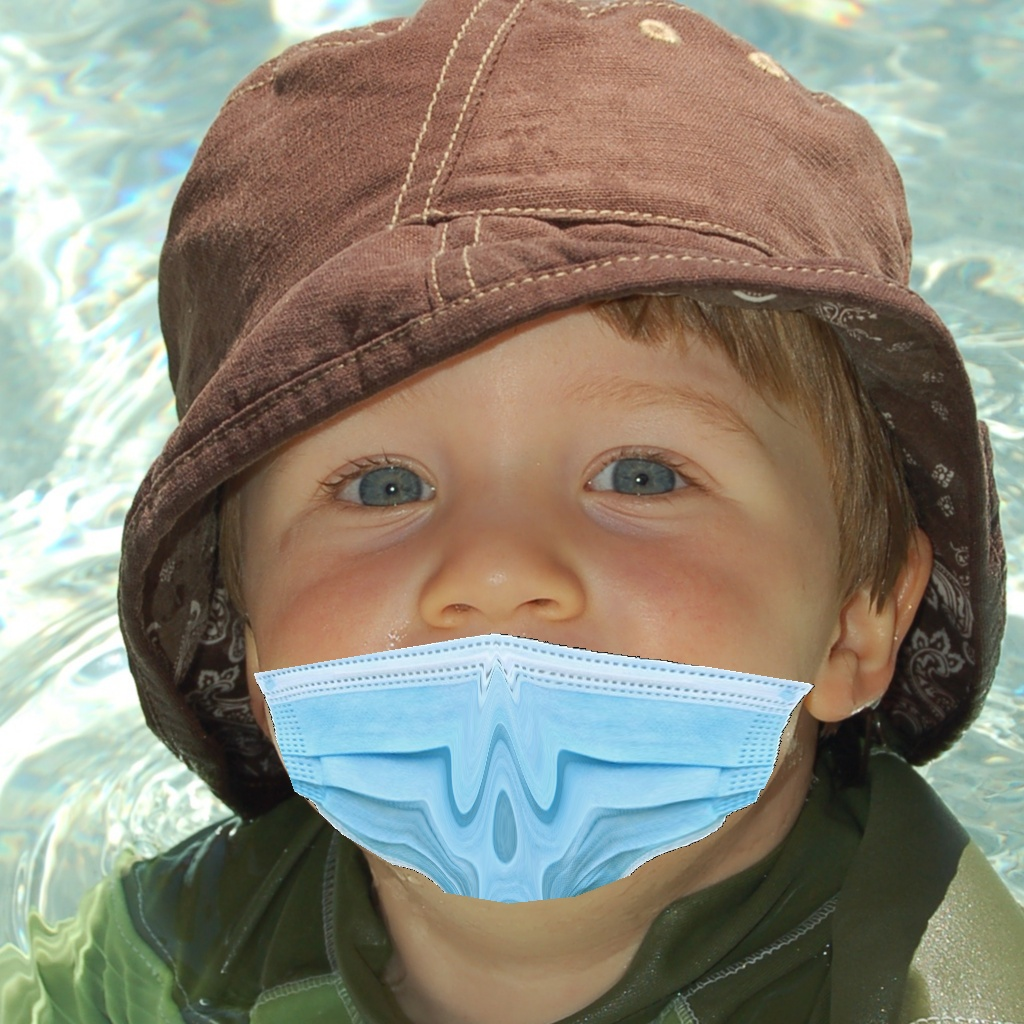mask_weared_incorrect: (201, 394, 852, 912)
